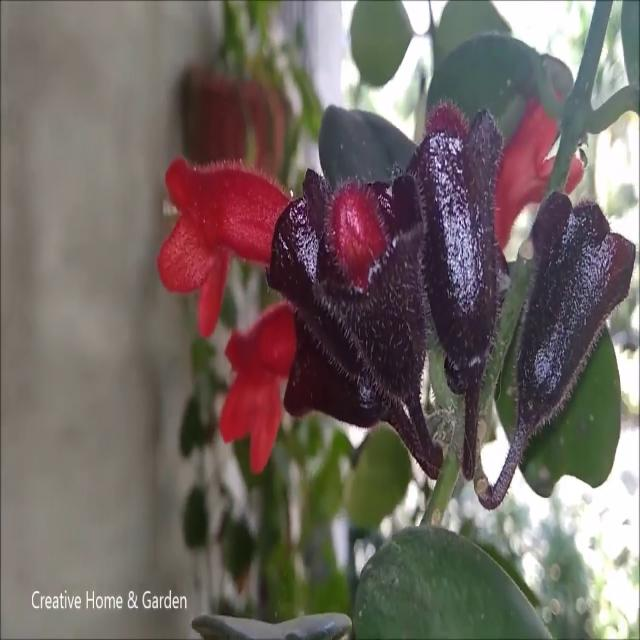Lipstick-Plant: (155, 96, 640, 482)
